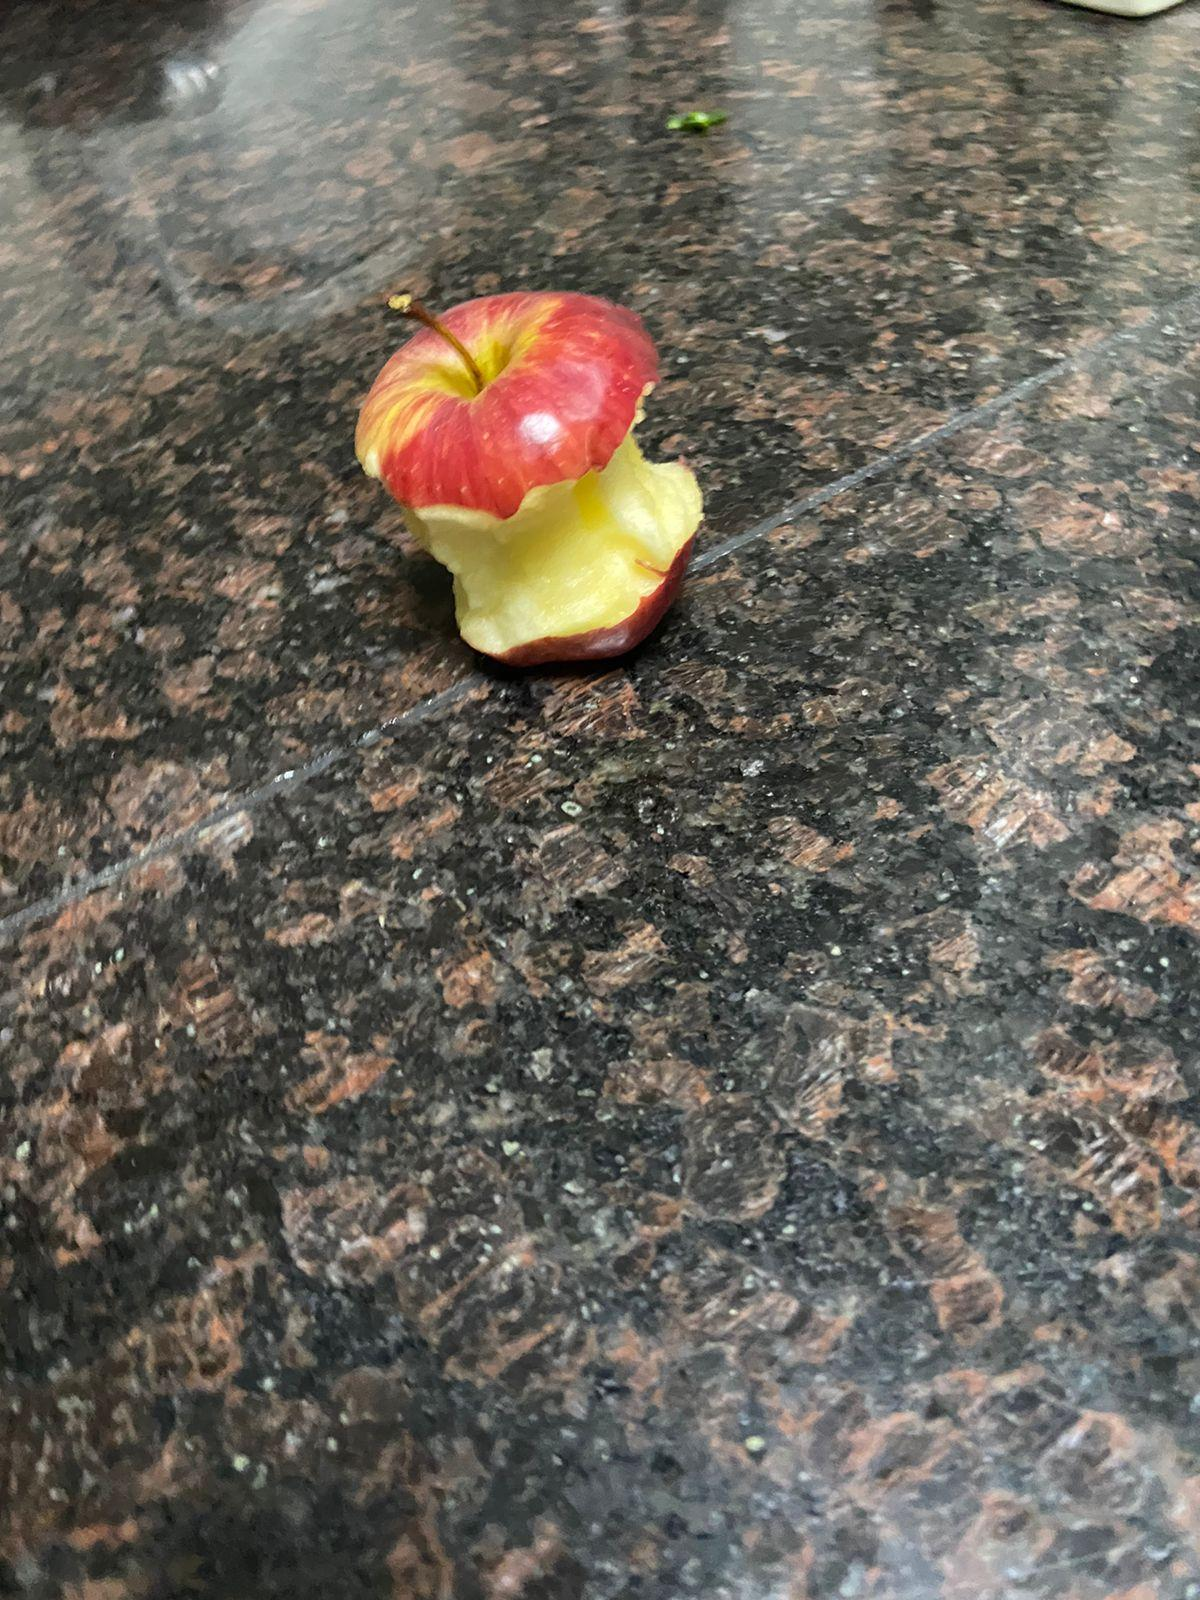Apple: (348, 281, 713, 674)
